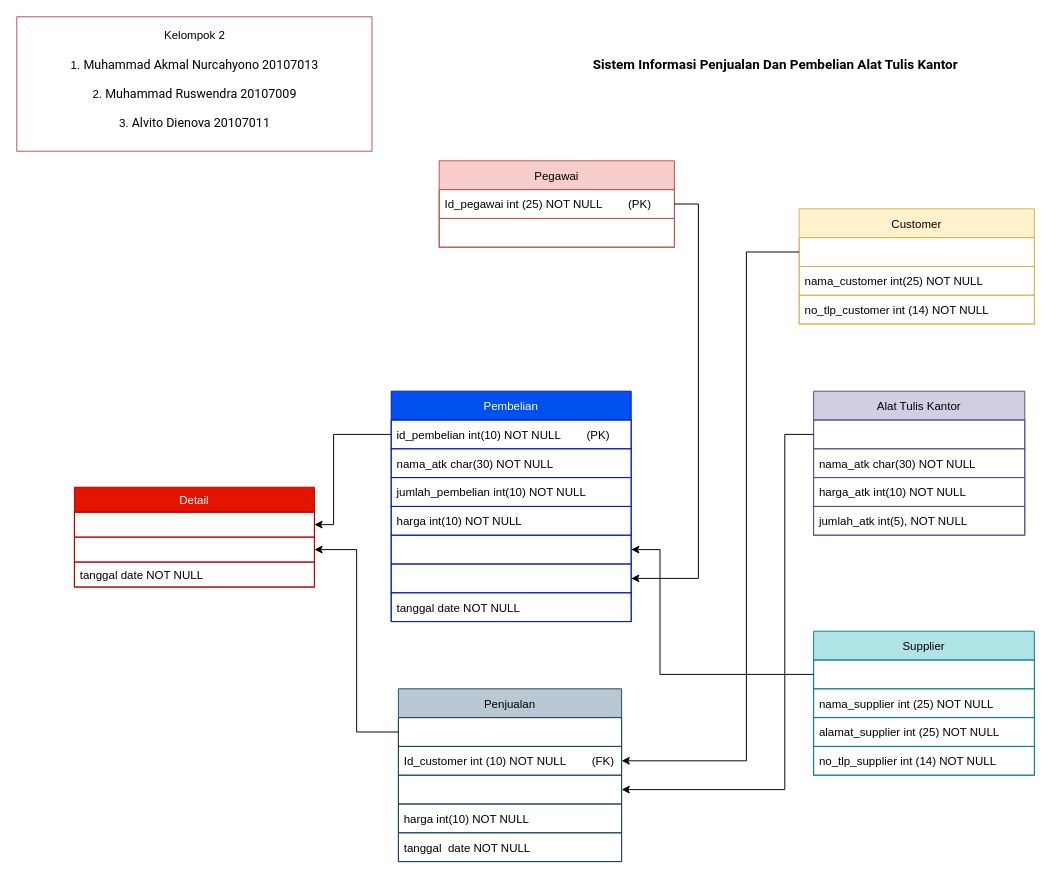
Image size: 1051x878. Some labels were removed from this diagram. The shapes that lost their labels are listed below. From the top down, each one's centre as x and y in pixels, then its label:
(x=556, y=232): nama_pegawai char (50) NOT NULL
(x=916, y=251): Id_customer int (10) NOT NULL (PK)
(x=919, y=434): id_atk int(10), NOT NULL (PK)
(x=193, y=524): id_pembelian int(10) NOT NULL (FK)
(x=193, y=549): id_penjualan int(10) NOT NULL (FK)
(x=510, y=549): Id_supplier int (10) NOT NULL (FK)
(x=510, y=578): Id_pegawai int (25) NOT NULL (FK)
(x=923, y=674): Id_supplier int (10) NOT NULL (PK)
(x=509, y=731): id_penjualan int(10) NOT NULL (PK)
(x=509, y=789): id_atk int (10) NOT NULL (FK)
